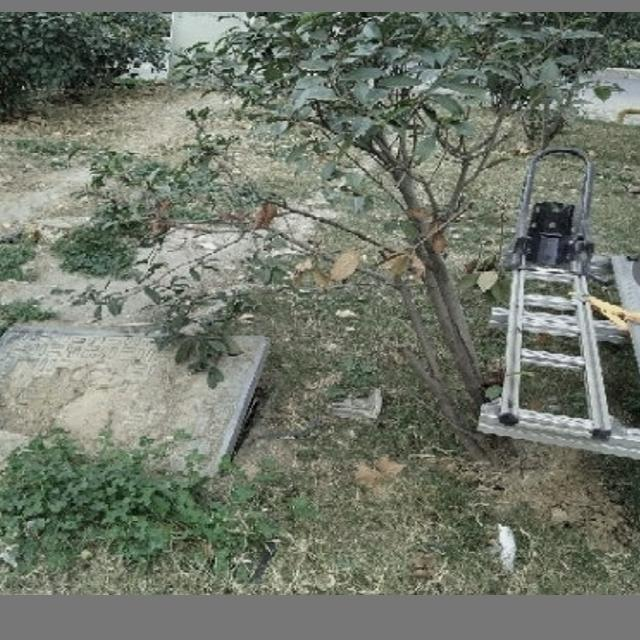uncovered: (0, 302, 294, 500)
